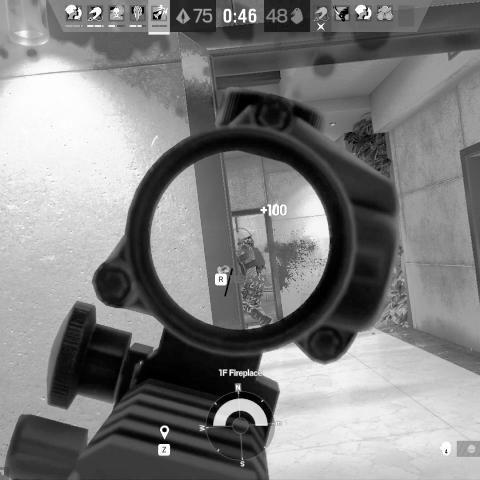Character: (235, 234, 274, 327)
Head: (238, 235, 255, 248)
